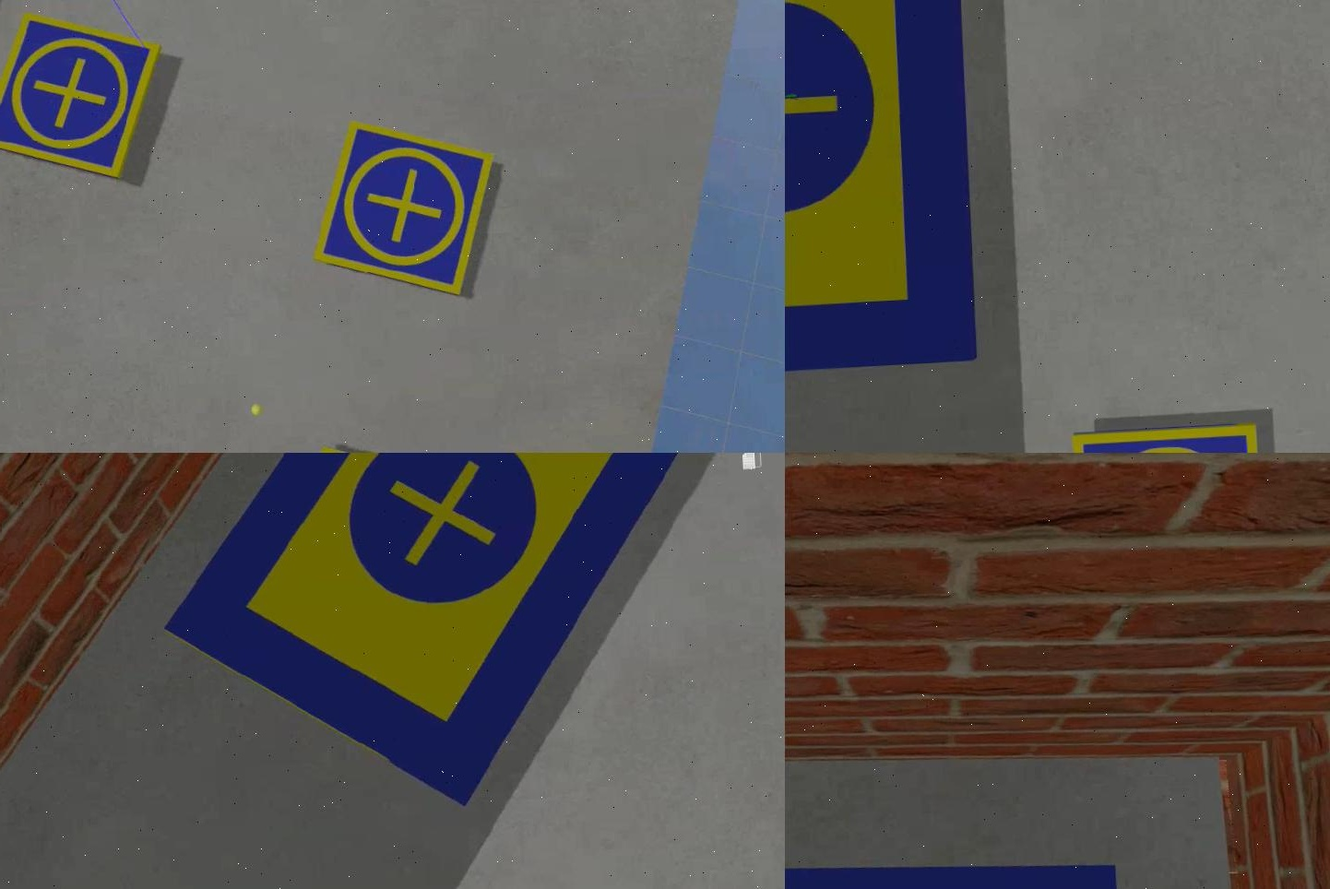large_base: (150, 454, 700, 821), (783, 1, 979, 374)
small_base: (300, 120, 500, 302), (0, 14, 161, 185), (1073, 421, 1265, 454)
